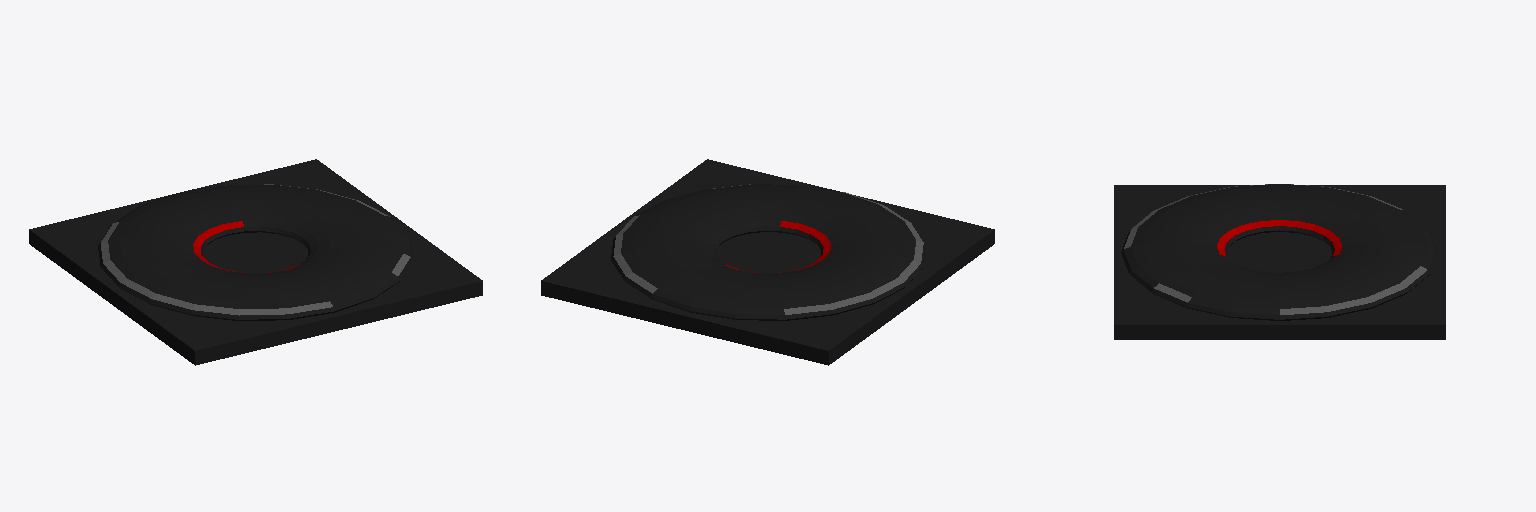
The model's file is anticonceptivo.obj.
3 renders of one model, left to right at view 1: azimuth 30°, elevation 25°; view 2: azimuth 150°, elevation 25°; view 3: azimuth 270°, elevation 25°, orthographic.
Parts seen in each view (by area): view 1: pTorus1, pCube1; view 2: pTorus1, pCube1; view 3: pTorus1, pCube1.
Boxes of the visible parts, box(x1,y1,x2,y2) form: pTorus1: box(98, 184, 412, 320); pCube1: box(29, 159, 482, 365); pTorus1: box(611, 184, 925, 320); pCube1: box(541, 159, 994, 365); pTorus1: box(1121, 184, 1437, 320); pCube1: box(1114, 185, 1445, 339).
Size of the model in its own units: 1 by 0.0911 by 1.